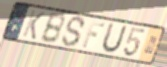5: (122, 26, 147, 58)
B: (38, 13, 66, 46)
F: (80, 20, 106, 50)
K: (21, 8, 46, 41)
S: (60, 15, 86, 49)
U: (99, 21, 129, 55)
